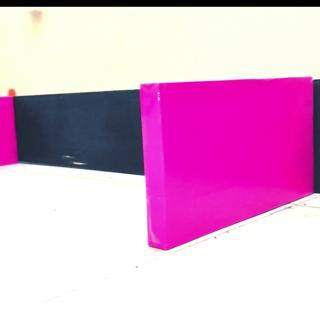xparking: (150, 85, 312, 222), (3, 97, 10, 166)
